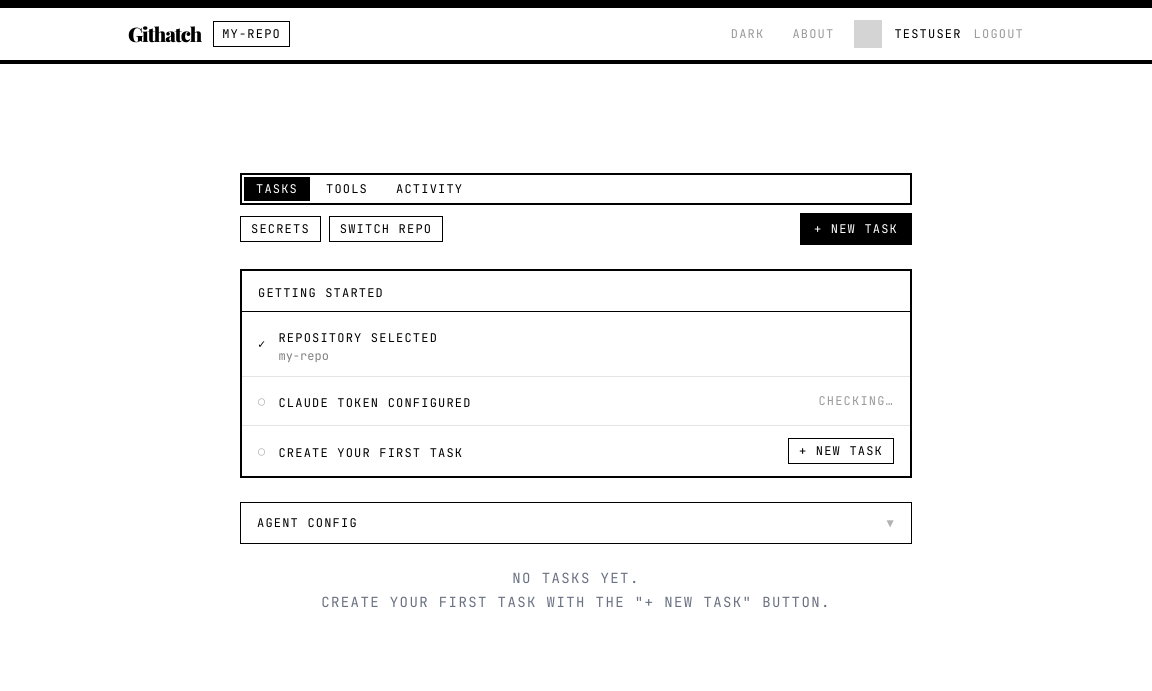
Test case: App — view navigation › navigates to new-task view when + New task toolbar button is clicked
What coordinates should you click on to do the following:
click the 1st button "+ New task"
I would click on:
 (856, 228)
Its box is [800,212,912,244].
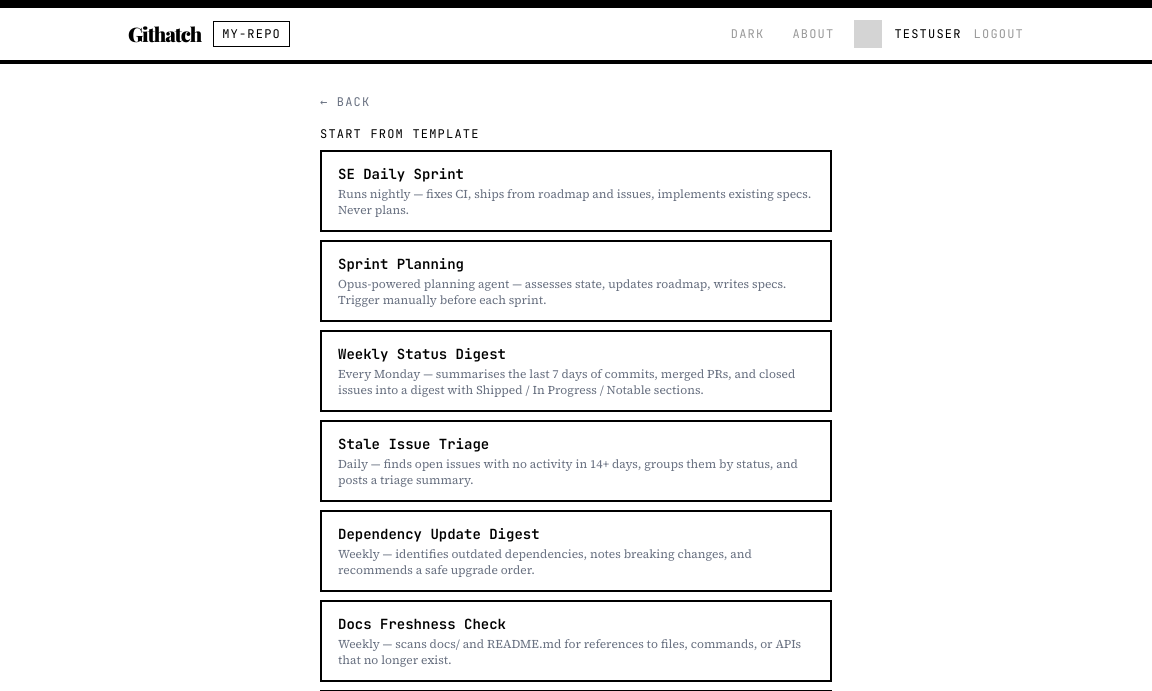
Check: the text "Start from template" is shown, box [320,126,480,142]
